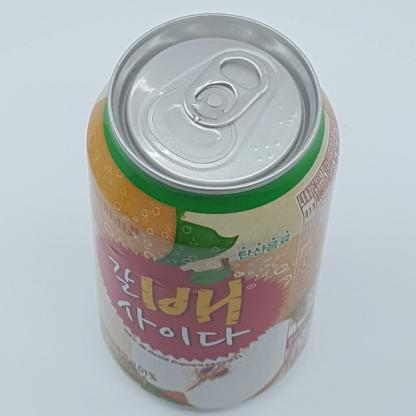-------355ML: (86, 12, 340, 410)
